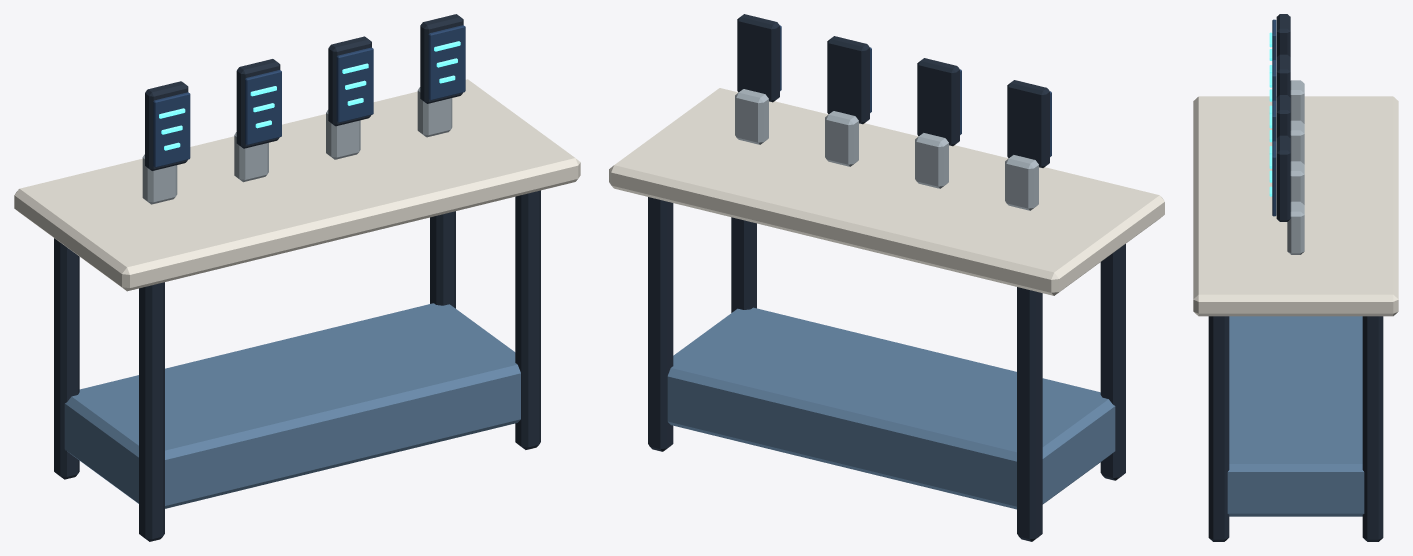
File: mall_04.glb
3 views of the same model, side by side, from view 1: azimuth 30°, elevation 25°; view 2: azimuth 150°, elevation 25°; view 3: azimuth 270°, elevation 25° (orthographic). The views are drawn at different scales.
Visible parts, largest first — view 1: CounterBase, TableTop, Leg (×4), Screen (×4), MonitorFrame (×4), PhoneStand (×4); view 2: TableTop, CounterBase, Leg (×4), MonitorFrame (×4), PhoneStand (×4); view 3: TableTop, CounterBase, Leg (×2), MonitorFrame (×4), PhoneStand (×4), Screen.
Part boxes in pixels (box(x1,y1,x2,y2)): CounterBase: box(64, 303, 520, 508); TableTop: box(14, 79, 580, 291); Leg (×4): box(54, 190, 540, 541); Screen (×4): box(153, 25, 465, 167); MonitorFrame (×4): box(145, 14, 463, 170); PhoneStand (×4): box(142, 87, 452, 204); TableTop: box(609, 88, 1164, 295); CounterBase: box(667, 307, 1115, 509); Leg (×4): box(648, 197, 1125, 541); MonitorFrame (×4): box(737, 14, 1049, 167); PhoneStand (×4): box(735, 89, 1038, 210); TableTop: box(1193, 96, 1398, 316); CounterBase: box(1227, 316, 1364, 516); Leg (×2): box(1208, 316, 1383, 541); MonitorFrame (×4): box(1276, 14, 1290, 221); PhoneStand (×4): box(1287, 80, 1304, 254); Screen: box(1272, 141, 1276, 216).
Size of the model in its own units: 1.4 by 1.2 by 0.6.
